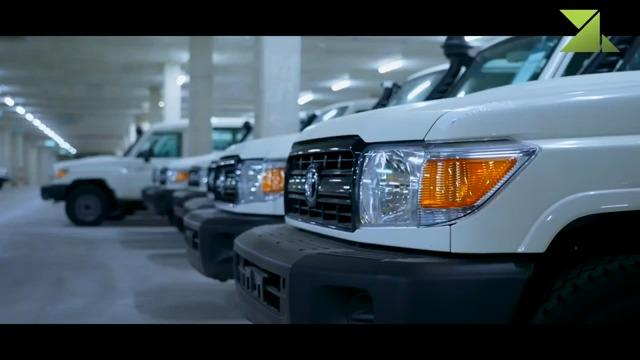MIL_HMMWV: (232, 32, 640, 325), (42, 123, 246, 231)
